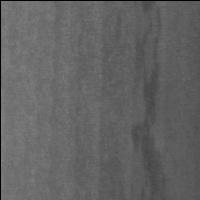inclusion: (130, 3, 171, 199)
